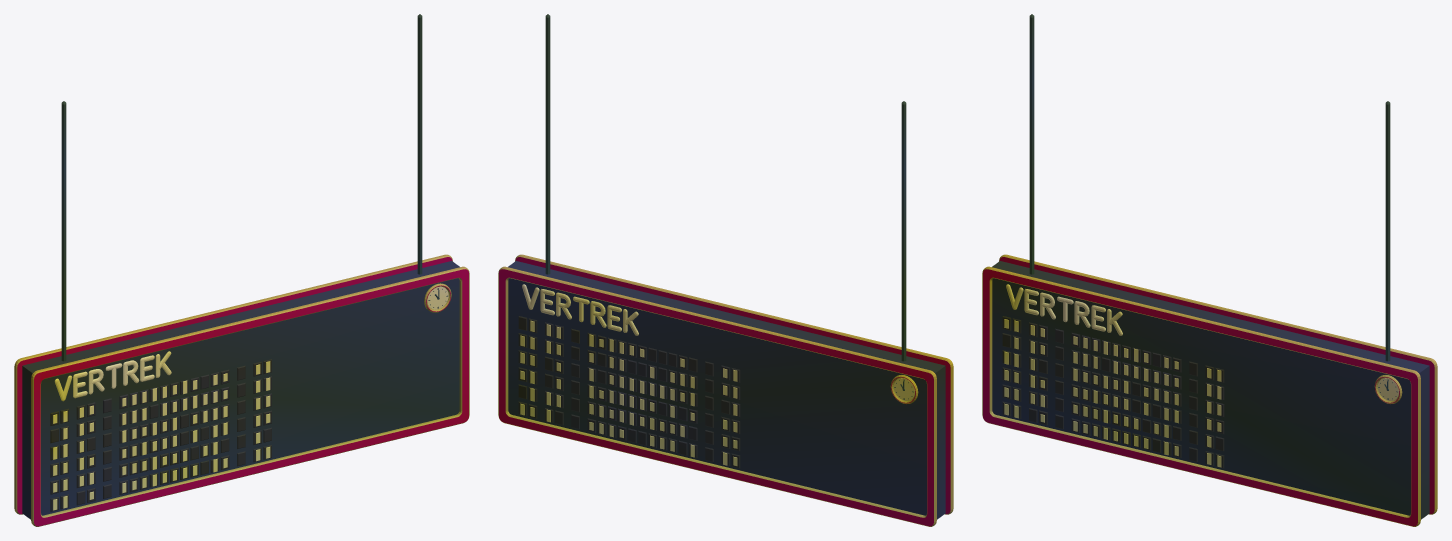
Rendered from GS_DepartureBoard.glb.
3 views of the same model, side by side, from view 1: azimuth 30°, elevation 25°; view 2: azimuth 150°, elevation 25°; view 3: azimuth 330°, elevation 25° (orthographic).
Visible parts, largest first — view 1: GS_DepartureBoard; view 2: GS_DepartureBoard; view 3: GS_DepartureBoard.
Boxes of the visible parts, x1,y1,x2,y2 form: GS_DepartureBoard: [14, 14, 469, 526]; GS_DepartureBoard: [498, 14, 953, 526]; GS_DepartureBoard: [982, 14, 1437, 526].
Bounding box in the file's own units: 7.12 × 6.4 × 0.5504.
